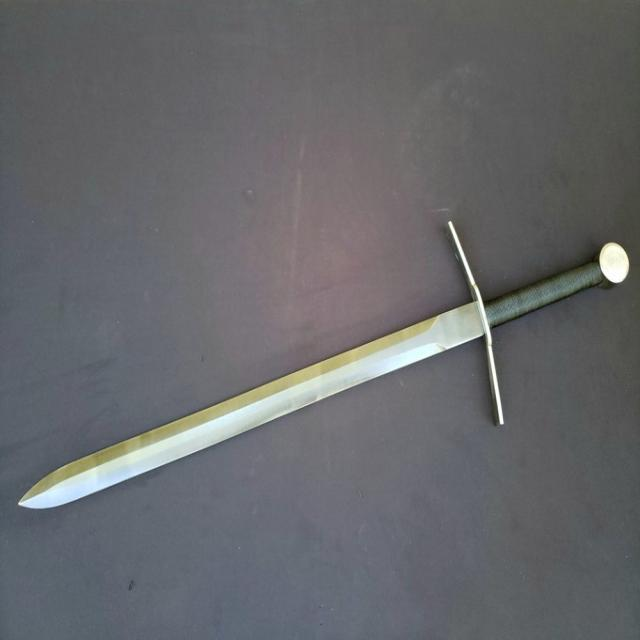sword: (18, 215, 632, 515)
